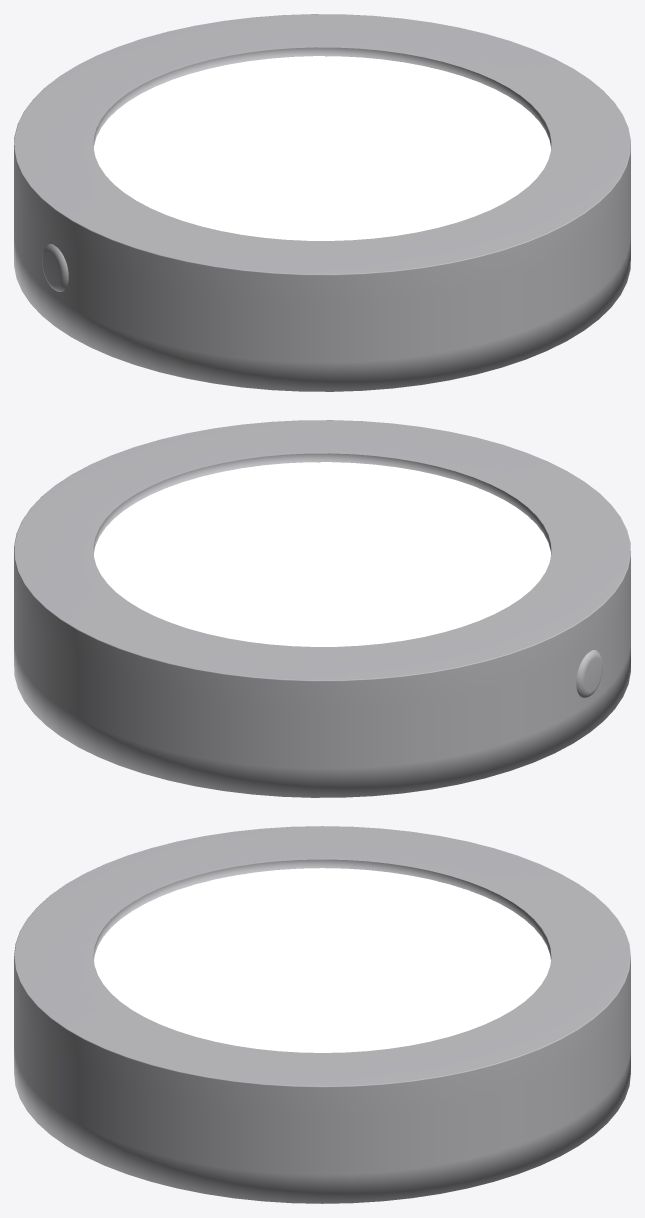
Rendered from lamp-draco.glb.
3 renders of one model, top to bottom at view 1: azimuth 30°, elevation 25°; view 2: azimuth 150°, elevation 25°; view 3: azimuth 270°, elevation 25°, orthographic.
Visible parts, largest first — view 1: lamp; view 2: lamp; view 3: lamp.
Boxes of the visible parts, x1,y1,x2,y2 form: lamp: (14, 14, 630, 391); lamp: (14, 420, 630, 797); lamp: (14, 826, 630, 1203).
Size of the model in its own units: 5.76 by 1.2 by 5.73.
Materials: 2 (1 with a texture image).
